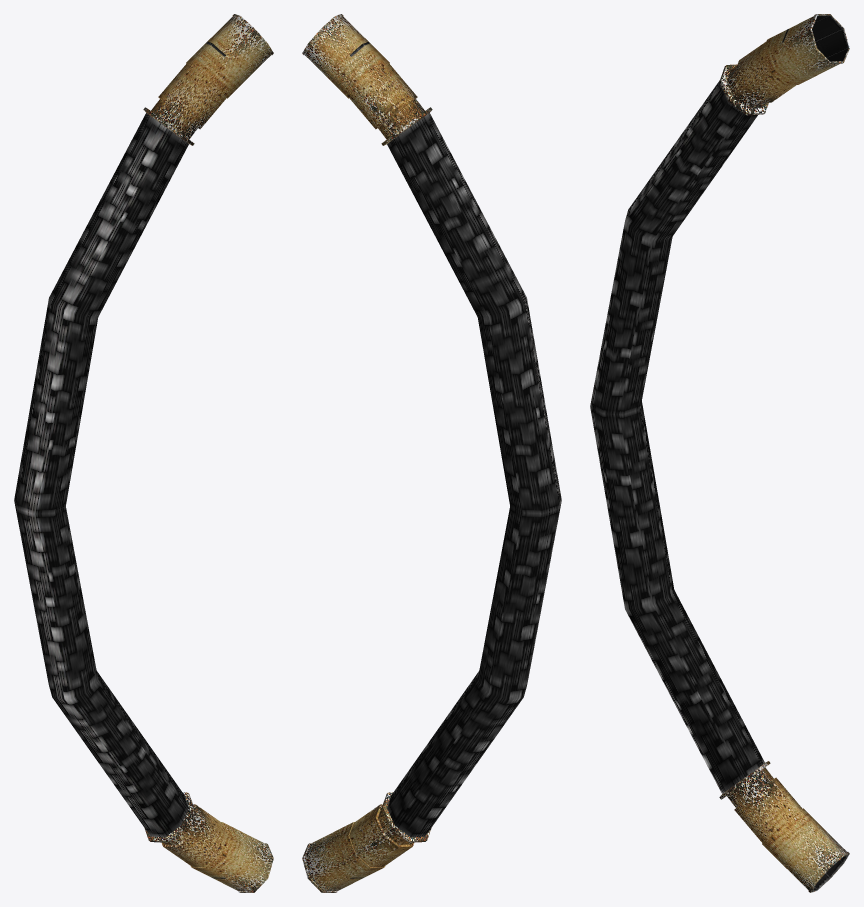
The model's file is item_generatorhose02.dae.
3 renders of one model, left to right at view 1: azimuth 30°, elevation 25°; view 2: azimuth 150°, elevation 25°; view 3: azimuth 330°, elevation 25°, orthographic.
Parts seen in each view (by area): view 1: item_generatorhose02; view 2: item_generatorhose02; view 3: item_generatorhose02.
Part boxes in pixels (left/top/right/bottom): item_generatorhose02: left=14, top=14, right=273, bottom=892; item_generatorhose02: left=302, top=14, right=561, bottom=892; item_generatorhose02: left=590, top=14, right=849, bottom=892.
Size of what is drawn, in the model's own units: 0.1625 by 0.5422 by 0.0347.
